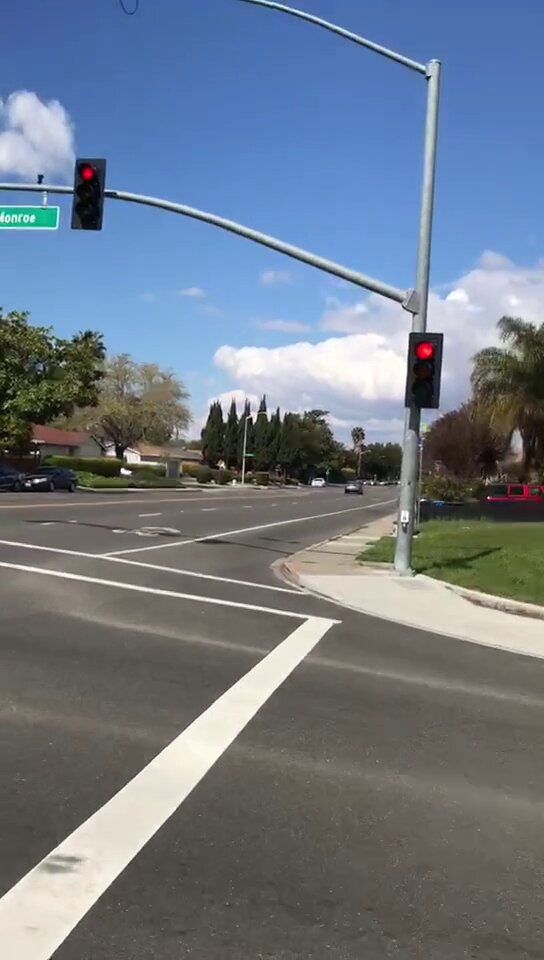red_light: (410, 333, 439, 407), (75, 158, 102, 227)
